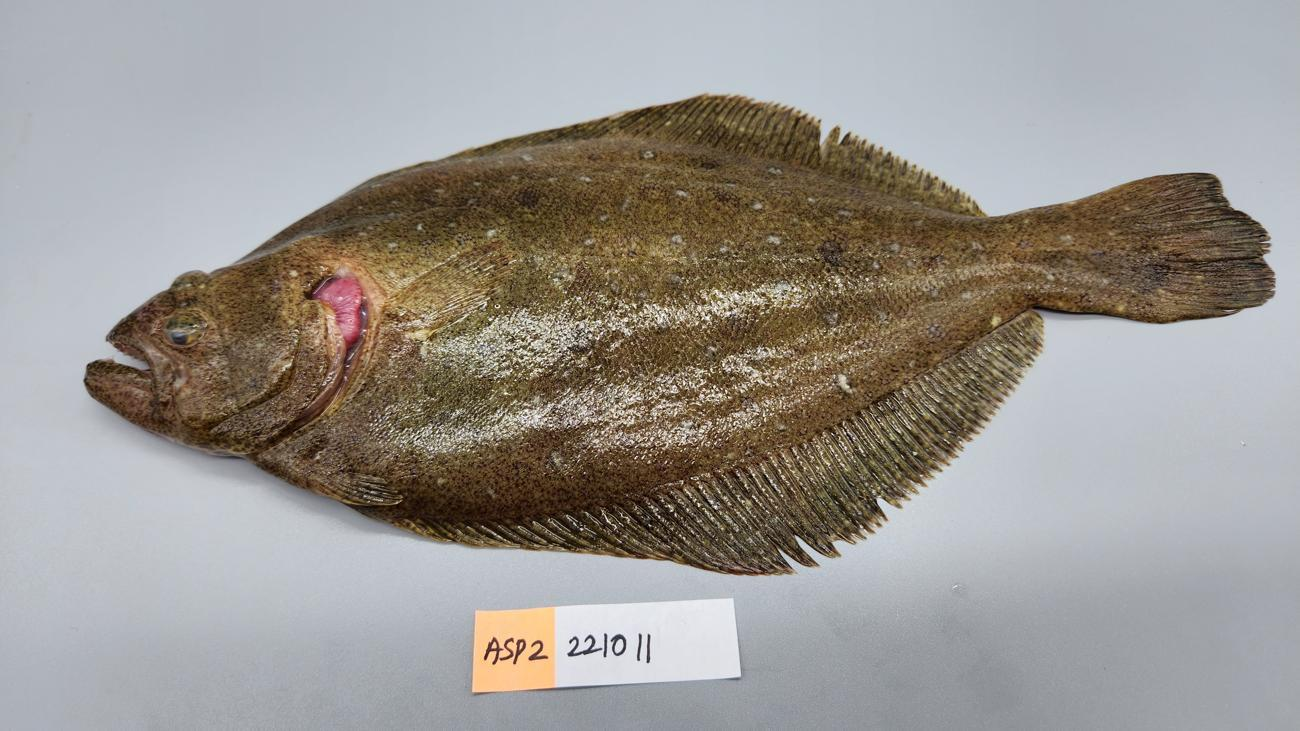SPFCH: (1071, 174, 1274, 306)
SPOUY: (75, 84, 1285, 586)
